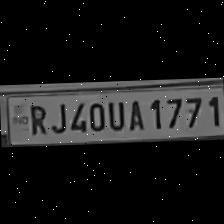0: (84, 98, 106, 132)
1: (202, 93, 222, 128), (144, 96, 162, 132)
4: (66, 98, 86, 134)
7: (160, 94, 182, 130), (180, 93, 202, 129)
A: (125, 96, 145, 132)
J: (47, 99, 67, 136)
R: (24, 100, 46, 136)
U: (106, 97, 126, 132)
